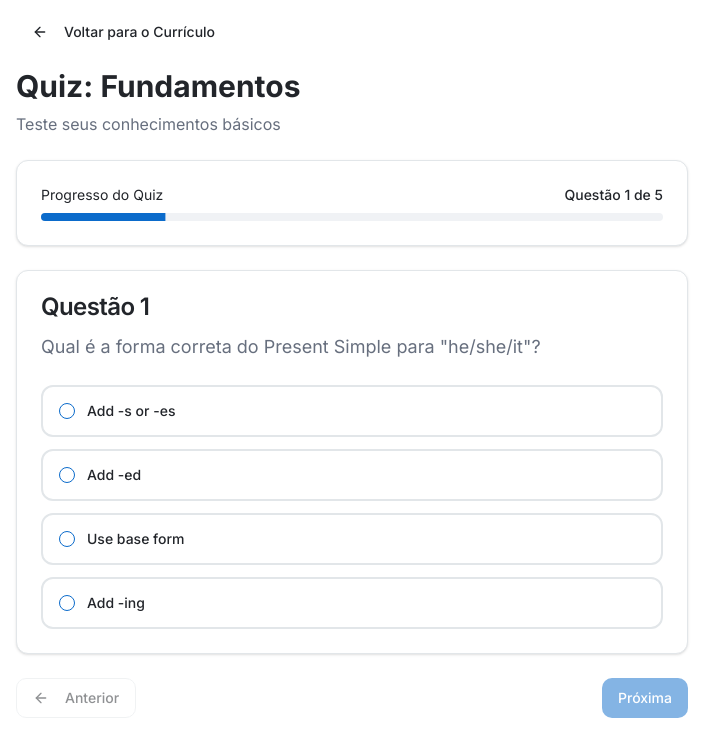
it: Quiz page accessibility › counts the same option picked on consecutive questions
Click the radio button next to "Add -ed": (67, 475) [59,467,75,483]
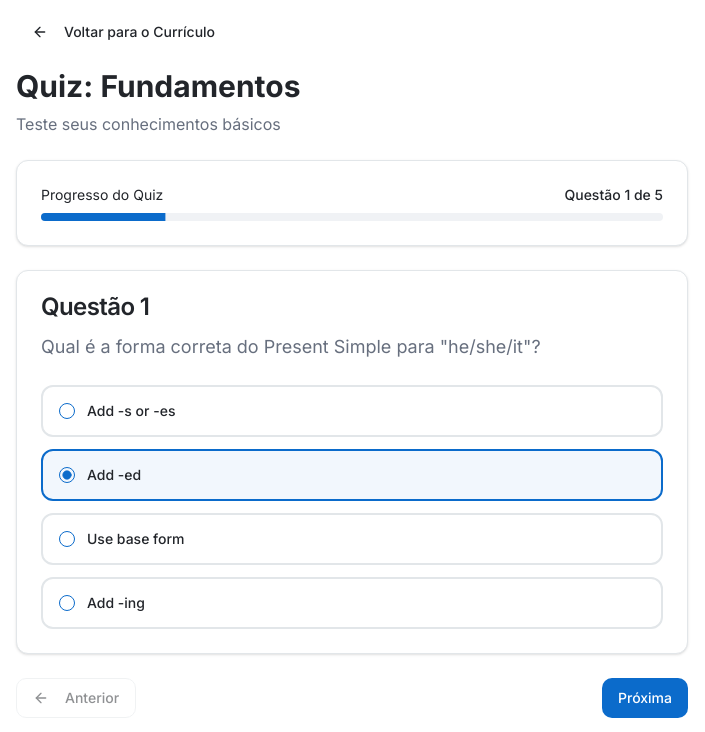
Click the button "Próxima": (645, 698) [602,678,688,718]
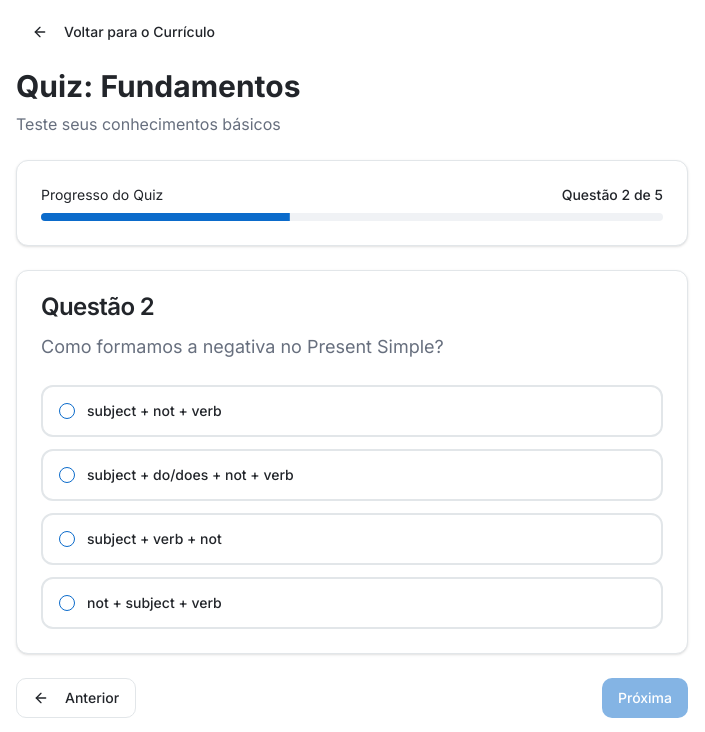
Click the radio button next to "subject + do/does + not + verb": (67, 475) [59,467,75,483]
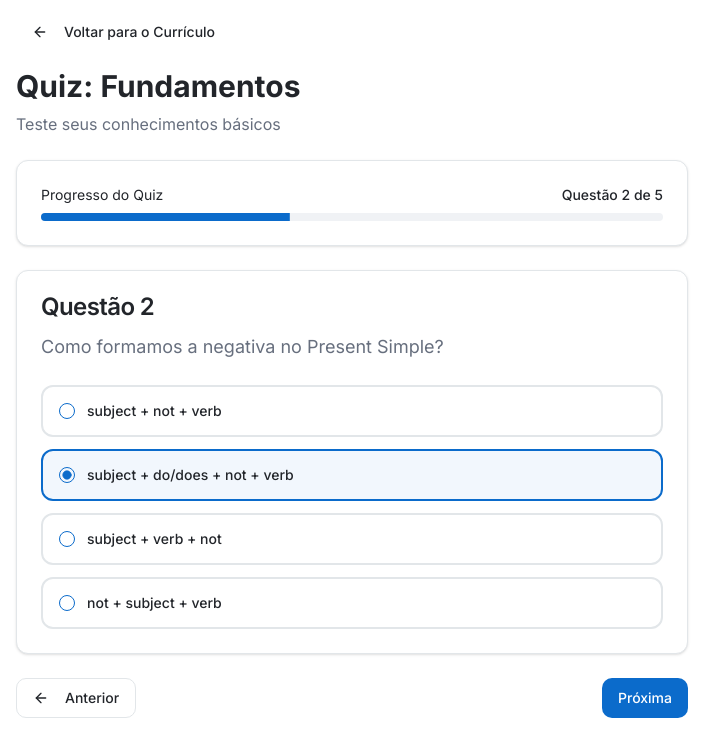
Expected: the radio button next to "subject + do/does + not + verb" is checked, [59,467,75,483]
Expected: the button "Próxima" is enabled, [602,678,688,718]
